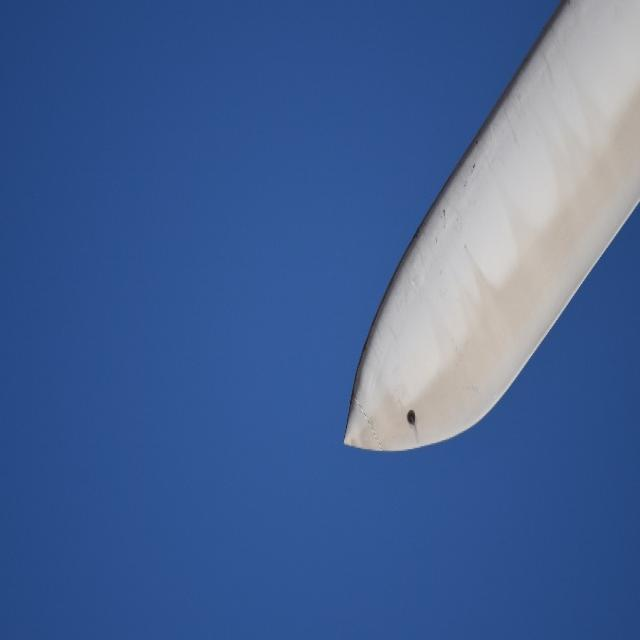Burn Mark: (405, 407, 419, 430)
